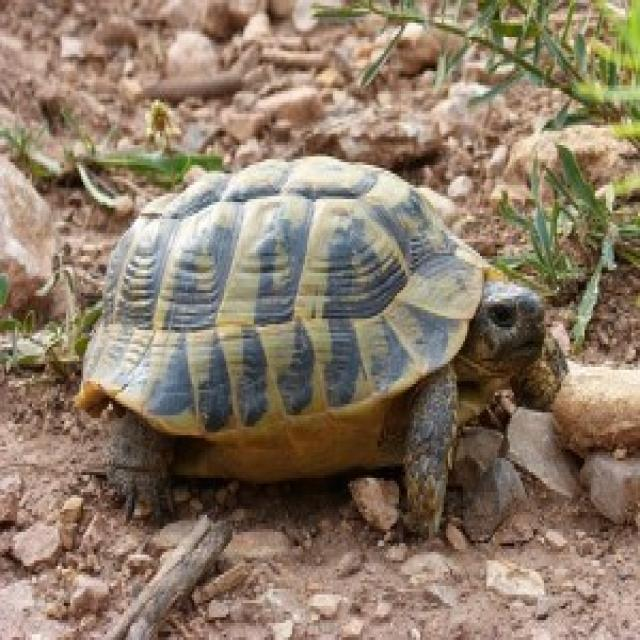Sea turtle: (70, 133, 586, 535)
